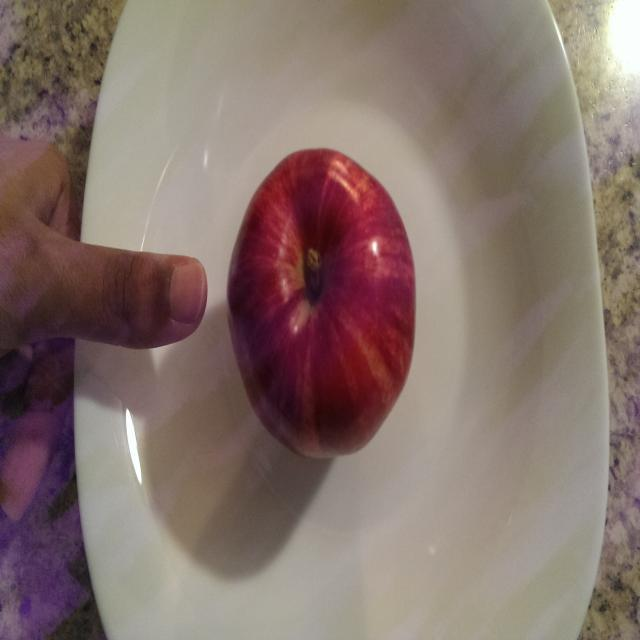Apple: (223, 142, 423, 466)
Finger: (95, 238, 213, 360)
